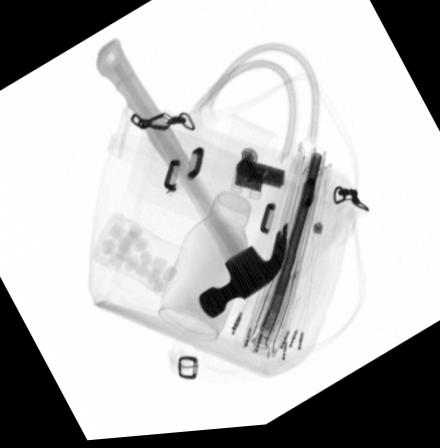Hammer: (95, 38, 289, 321)
